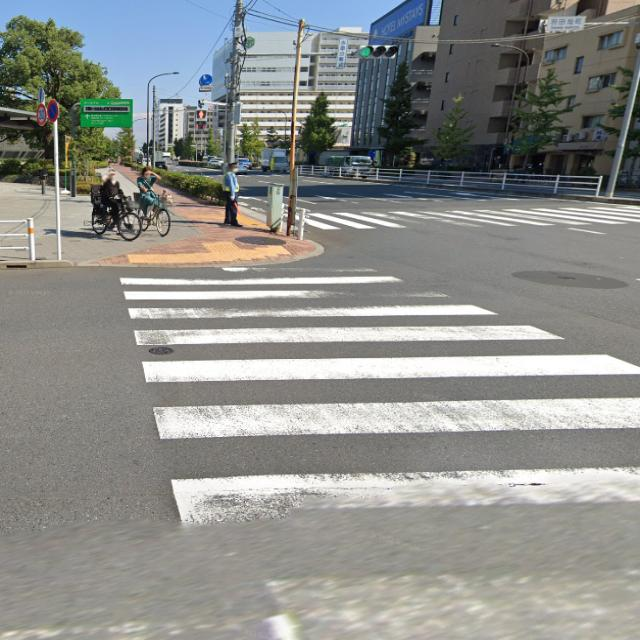traffic-light: (195, 111, 209, 130)
